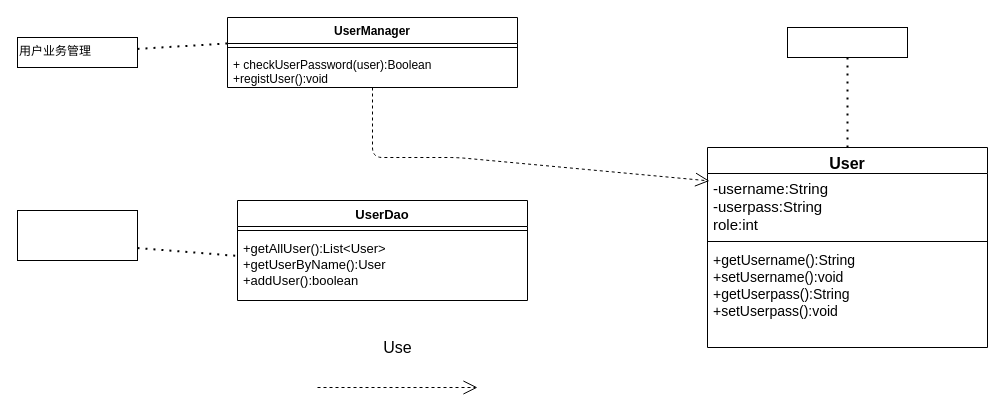
The diagram is 1005 pixels wide and 419 high, and some of its shapes have lost their labels. The shapes that lost their labels are listed below. From the top down, each one's centre as x and y in pixels, then its label:
(847,42): 用户信息
(77,235): 用户数据库访问、操作
